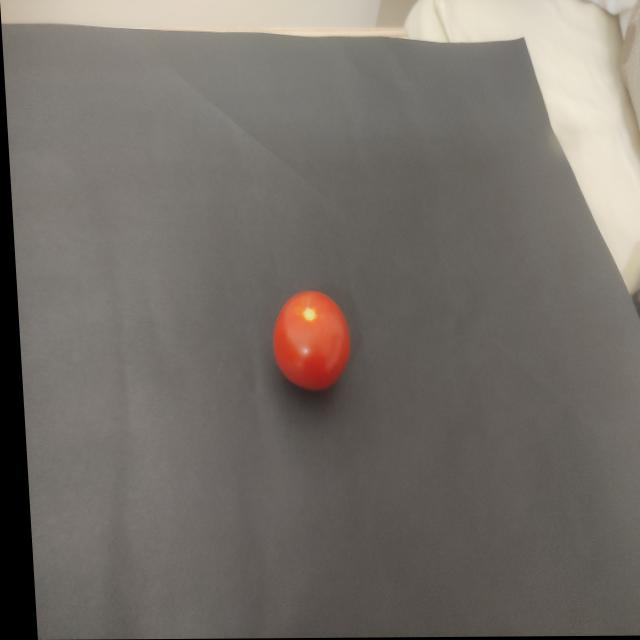kirmizi: (250, 280, 359, 401)
